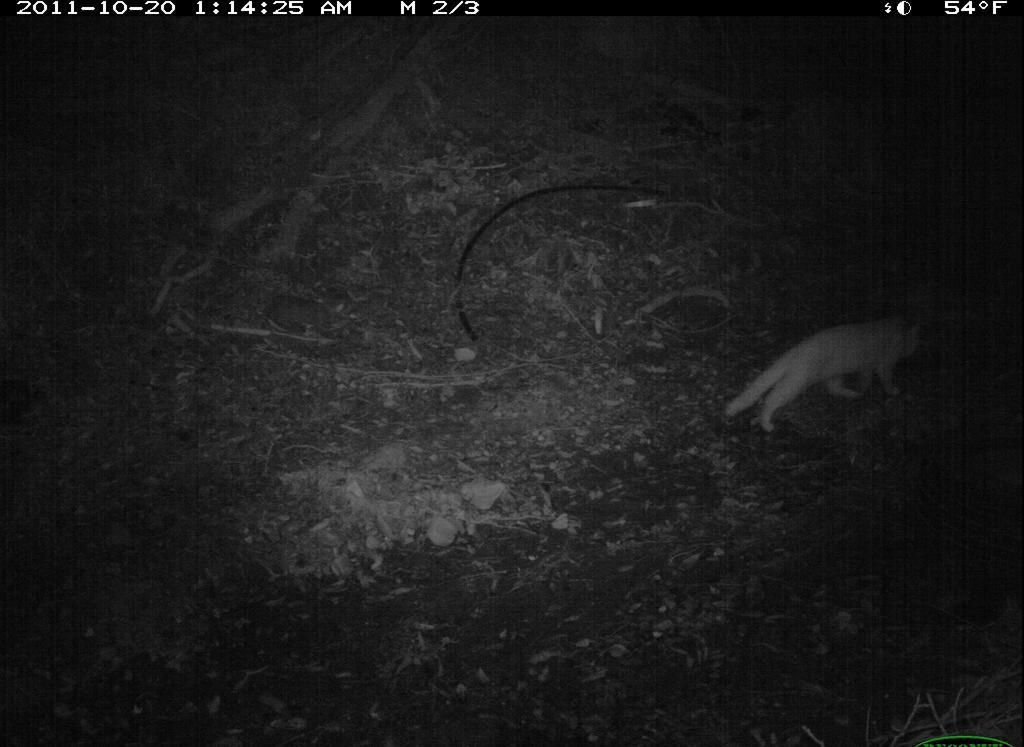cat: (698, 292, 946, 455)
